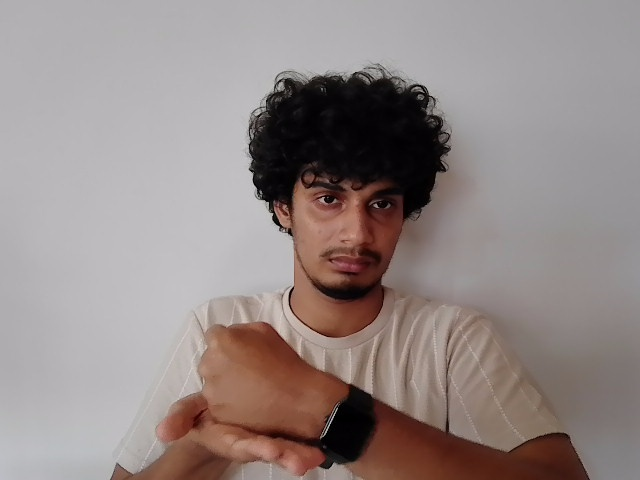help: (156, 316, 346, 470)
